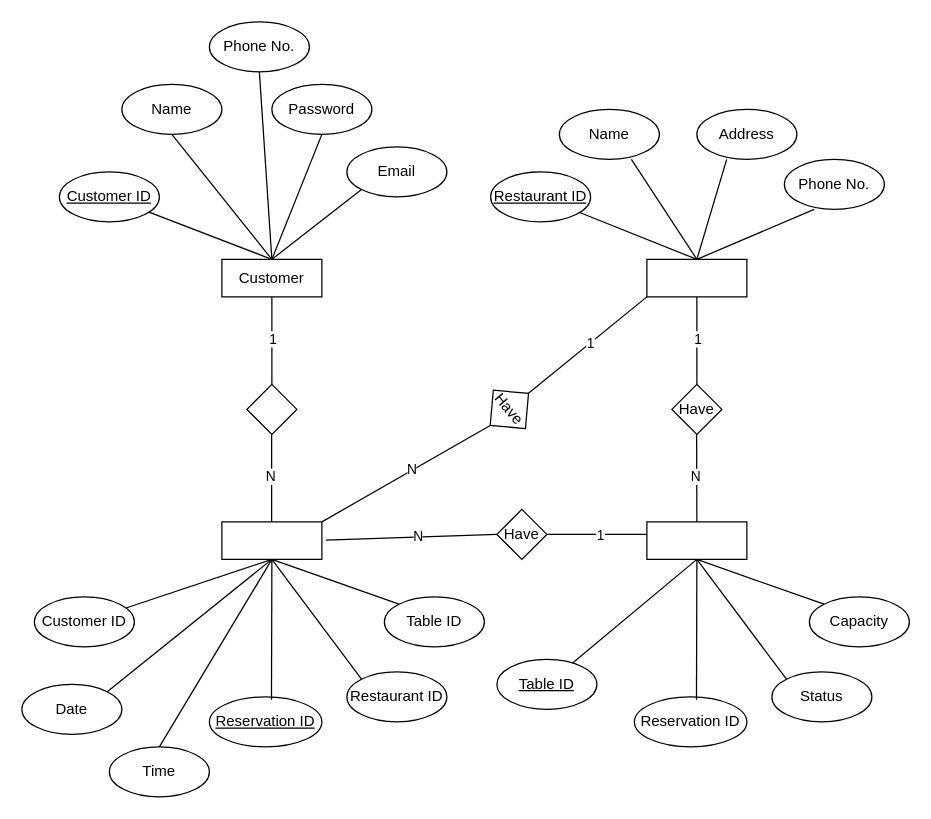
This 931x819 diagram has some shape labels left out. Each missing label, with the centre of its shape:
Make: point (271, 408)
Reservation: point (271, 540)
Restaurant: point (696, 277)
Table: point (696, 540)
